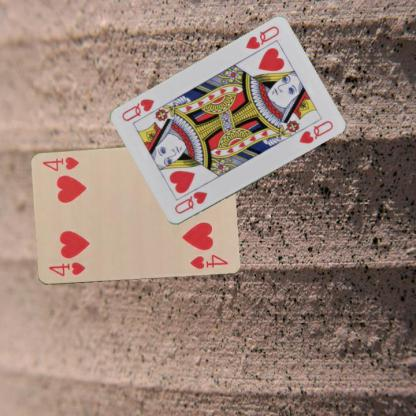4h: (46, 259, 86, 278)
Qh: (243, 23, 280, 52), (172, 189, 208, 215)
